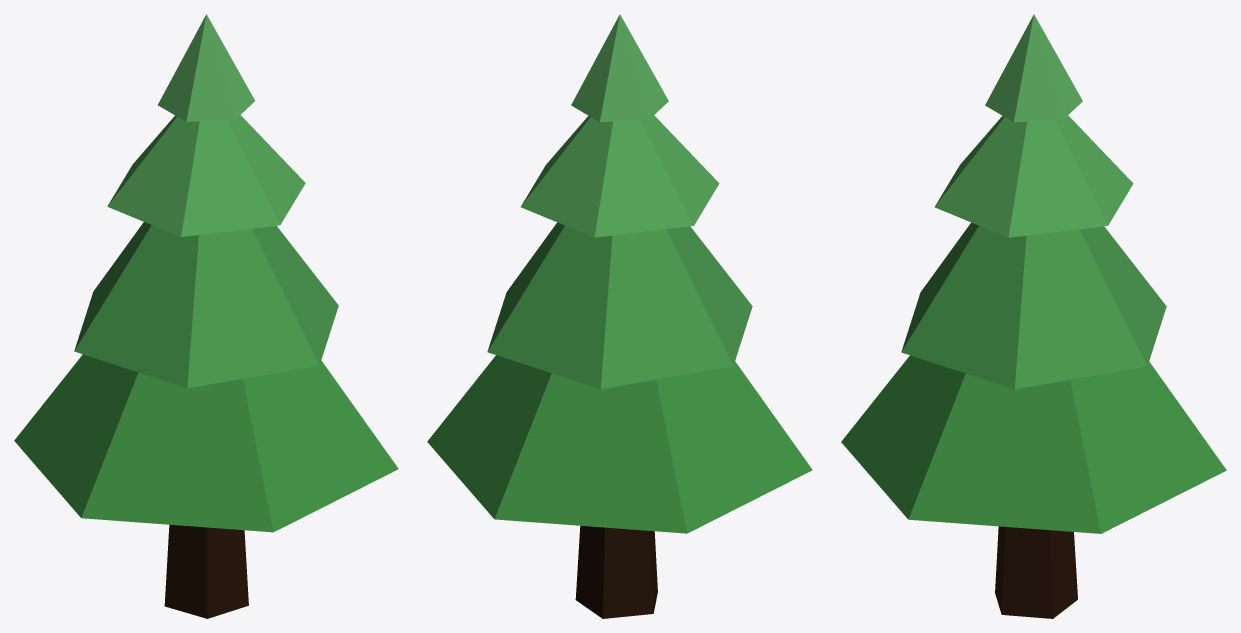
Rendered from Taiga_Tree5.fbx.
3 renders of one model, left to right at view 1: azimuth 30°, elevation 25°; view 2: azimuth 150°, elevation 25°; view 3: azimuth 270°, elevation 25°, orthographic.
Visible parts, largest first — view 1: Cylinder.003; view 2: Cylinder.003; view 3: Cylinder.003.
Part boxes in pixels (x1,y1,x2,y2): Cylinder.003: (14,14,398,618); Cylinder.003: (427,14,812,618); Cylinder.003: (841,14,1226,618).
Bounding box in the file's own units: 284 × 501 × 298.
